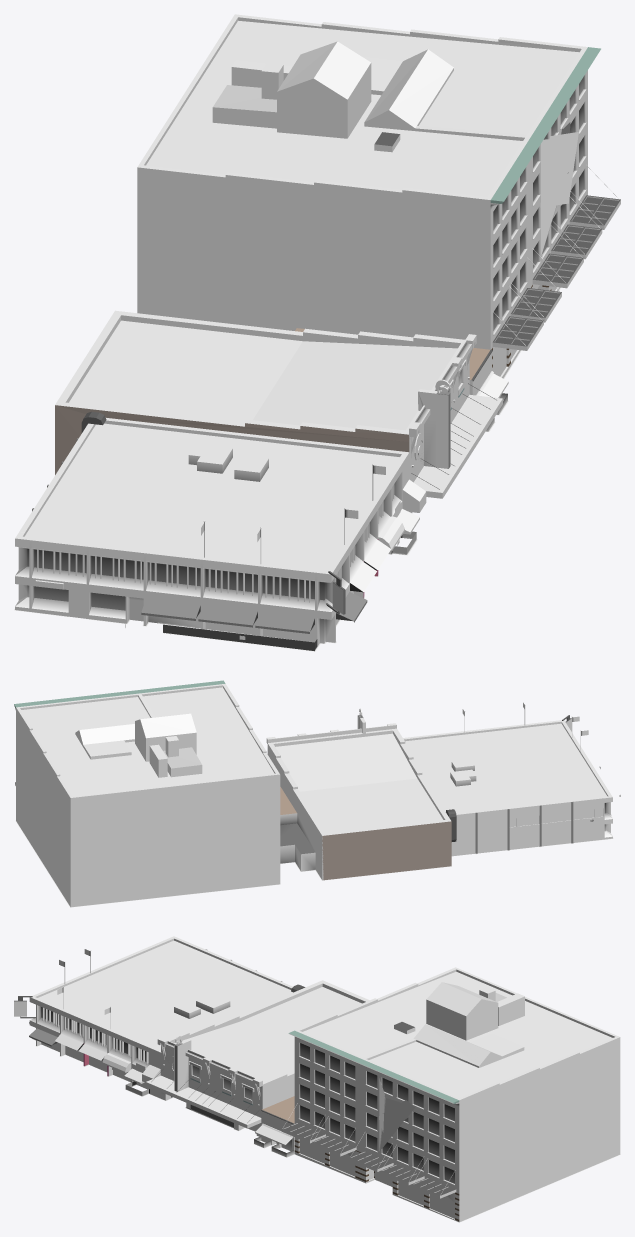
The picture shows the model from 3 angles, top to bottom: view 1: azimuth 30°, elevation 25°; view 2: azimuth 150°, elevation 25°; view 3: azimuth 270°, elevation 25°; orthographic projection. The views are drawn at different scales.
Visible parts, largest first — view 1: RA04-33_U2 (×6); view 2: RA04-33_U2 (×3); view 3: RA04-33_U2 (×5).
Part boxes in pixels (bbox=[...]): RA04-33_U2 (×6): bbox=[14, 14, 620, 651]; RA04-33_U2 (×3): bbox=[14, 680, 620, 907]; RA04-33_U2 (×5): bbox=[14, 936, 620, 1222].
Bounding box in the file's own units: 94.9 × 27.76 × 97.72.
